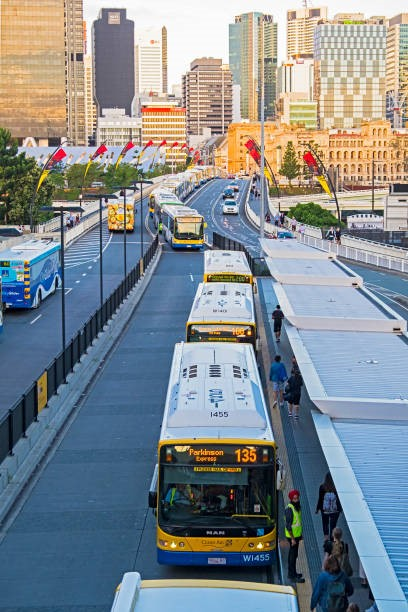HeavyVehicle: (154, 338, 285, 573), (160, 203, 207, 252)
